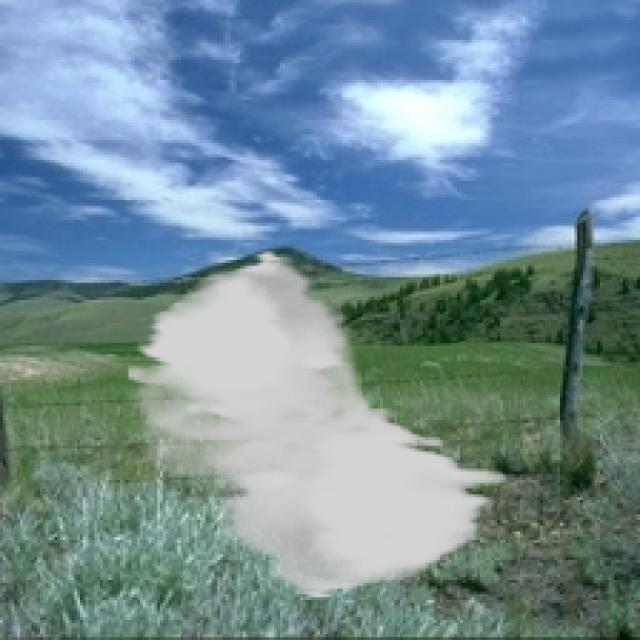Smoke: (126, 248, 506, 600)
